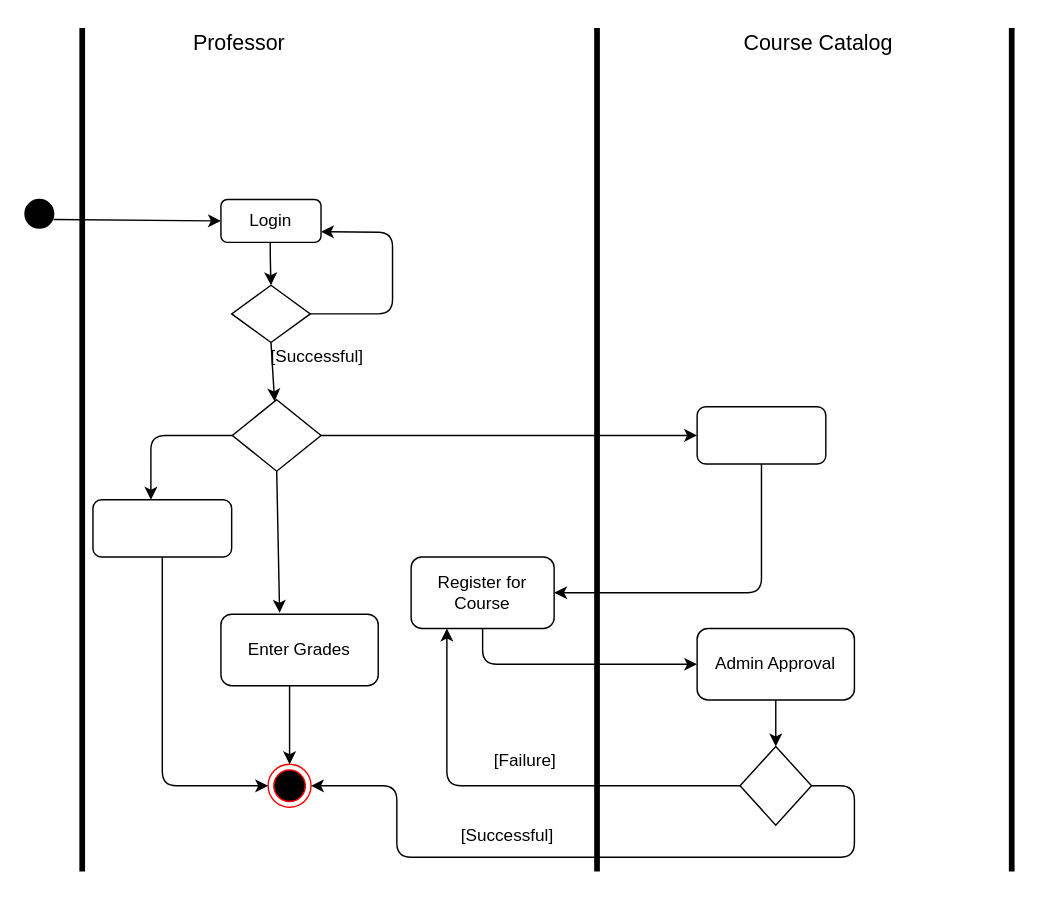
Some shapes in this 1041 by 899 pixel diagram are drawn without their labels. Each missing label, with the centre of its shape:
View Course: (x=761, y=434)
View Enrolled Students: (x=162, y=527)
